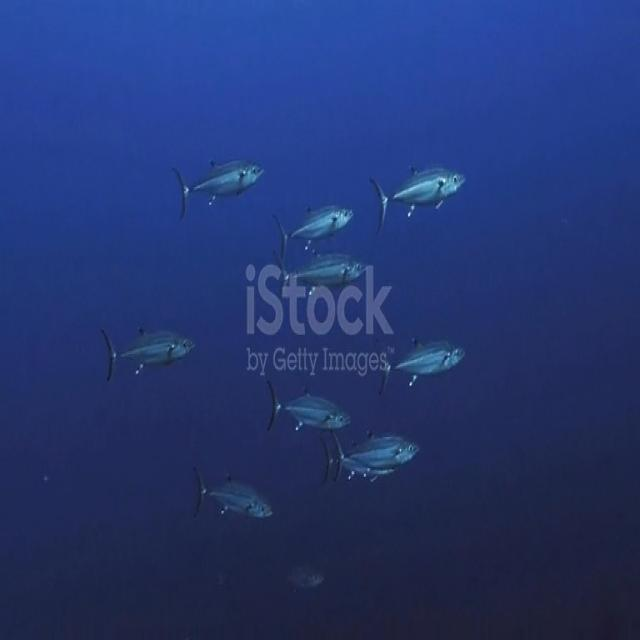fish: (372, 159, 473, 236), (332, 420, 420, 481), (374, 338, 468, 395), (177, 162, 270, 216), (269, 380, 353, 438), (102, 328, 198, 378), (195, 465, 272, 526), (274, 202, 356, 259), (279, 248, 369, 295)
